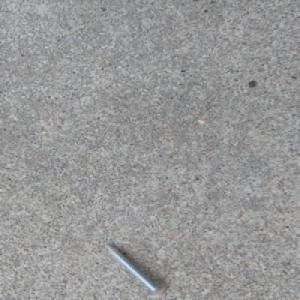Screw: (103, 243, 168, 298)
